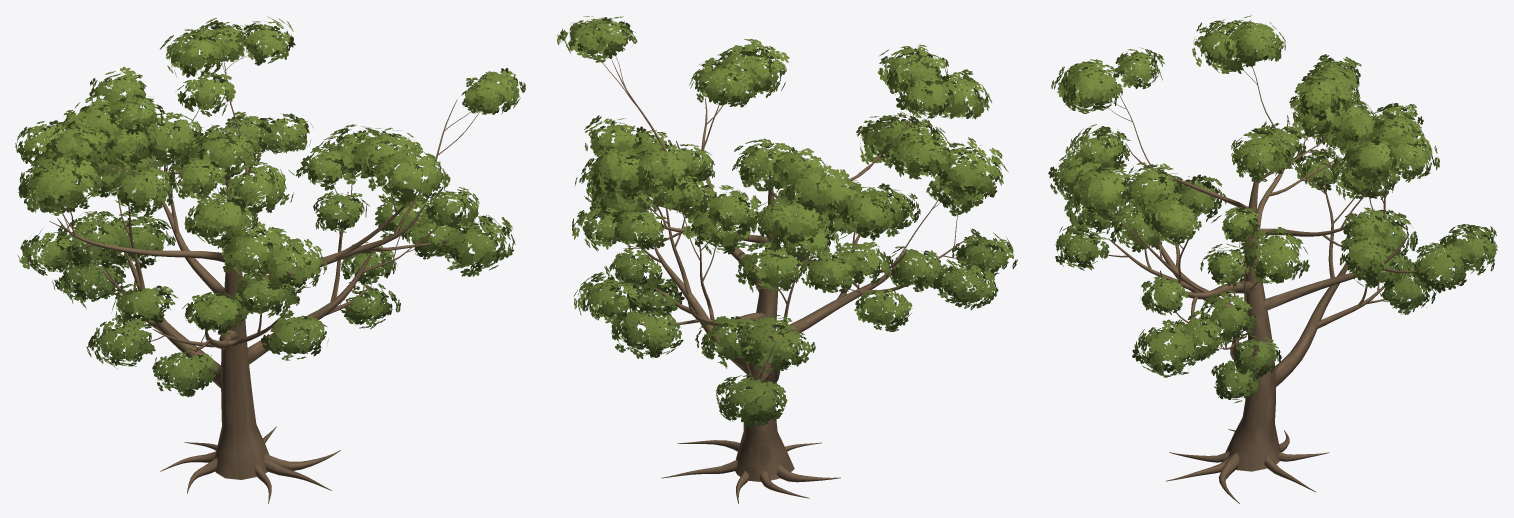
The model's file is tree.gltf.
3 renders of one model, left to right at view 1: azimuth 30°, elevation 25°; view 2: azimuth 150°, elevation 25°; view 3: azimuth 270°, elevation 25°, orthographic. The views are drawn at different scales.
Visible parts, largest first — view 1: Tree_LOD0; view 2: Tree_LOD0; view 3: Tree_LOD0.
Part boxes in pixels (left/top/right/bottom): Tree_LOD0: left=15, top=16, right=525, bottom=503; Tree_LOD0: left=557, top=16, right=1017, bottom=503; Tree_LOD0: left=1048, top=15, right=1497, bottom=503.
Bounding box in the file's own units: 31.92 × 24.63 × 27.54.
2 materials, 2 textured.
